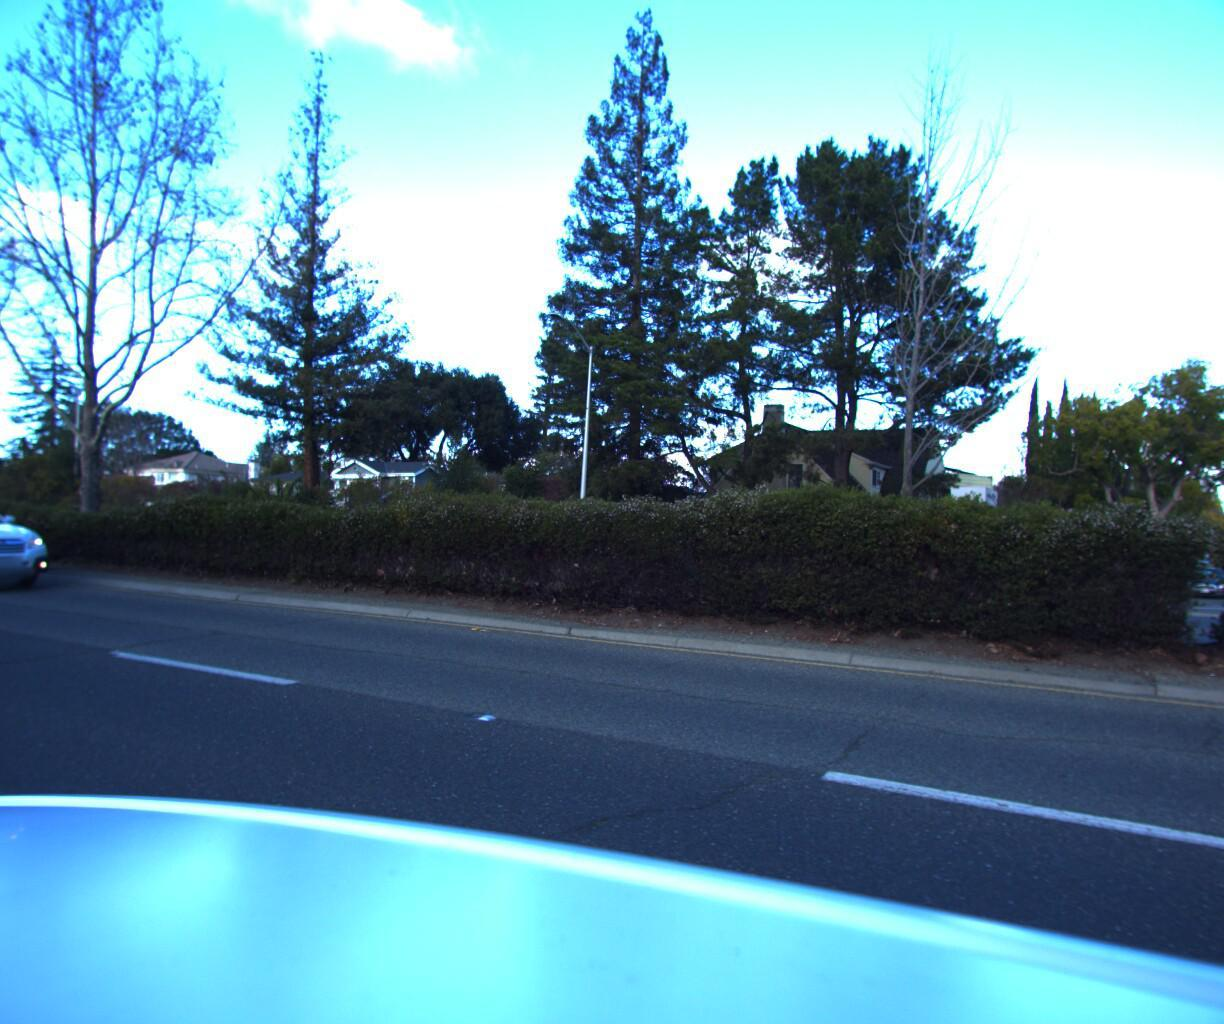car: (0, 474, 62, 595)
